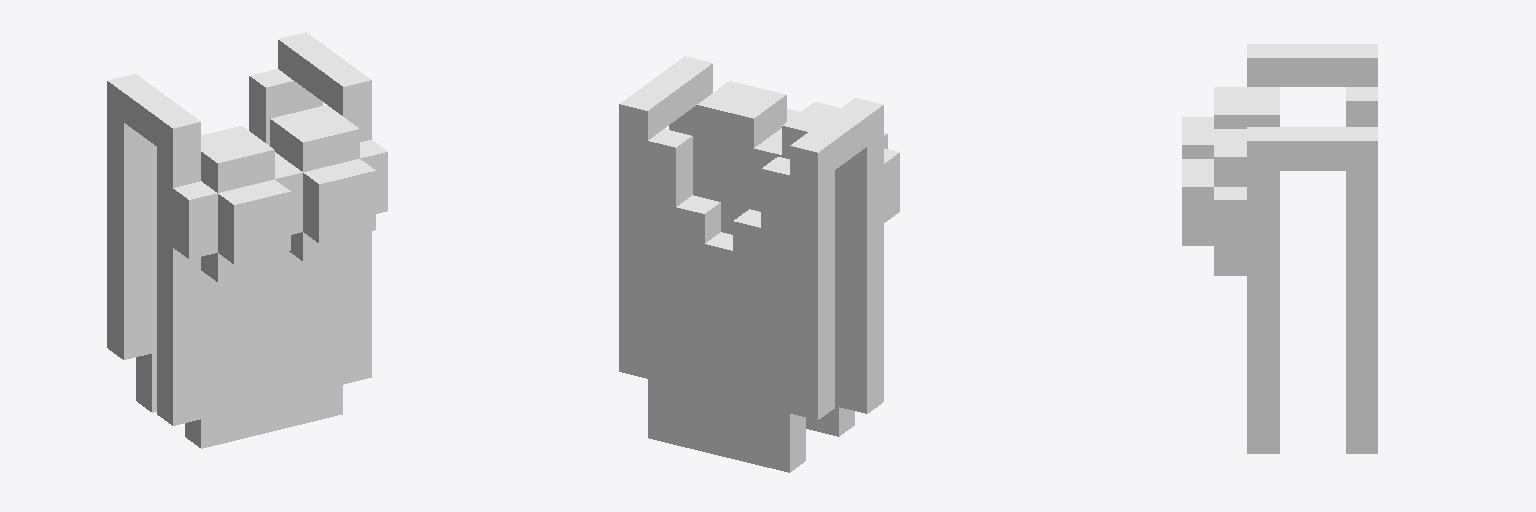
The model's file is female_body_armor.obj.
The picture shows the model from 3 angles: view 1: azimuth 30°, elevation 25°; view 2: azimuth 150°, elevation 25°; view 3: azimuth 270°, elevation 25°; orthographic projection.
Visible parts, largest first — view 1: object 1; view 2: object 1; view 3: object 1.
Boxes of the visible parts, x1=… form: object 1: x1=107, y1=32, x2=387, y2=448; object 1: x1=619, y1=56, x2=899, y2=472; object 1: x1=1182, y1=44, x2=1377, y2=453.
Bounding box in the file's own units: 0.7 × 1.1 × 0.6.